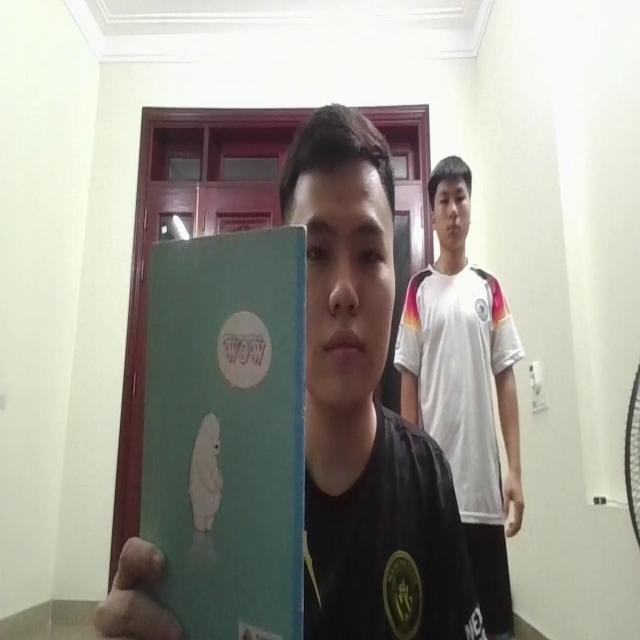book: (134, 212, 312, 640)
extra_person: (406, 150, 518, 581)
student: (284, 101, 403, 640)
